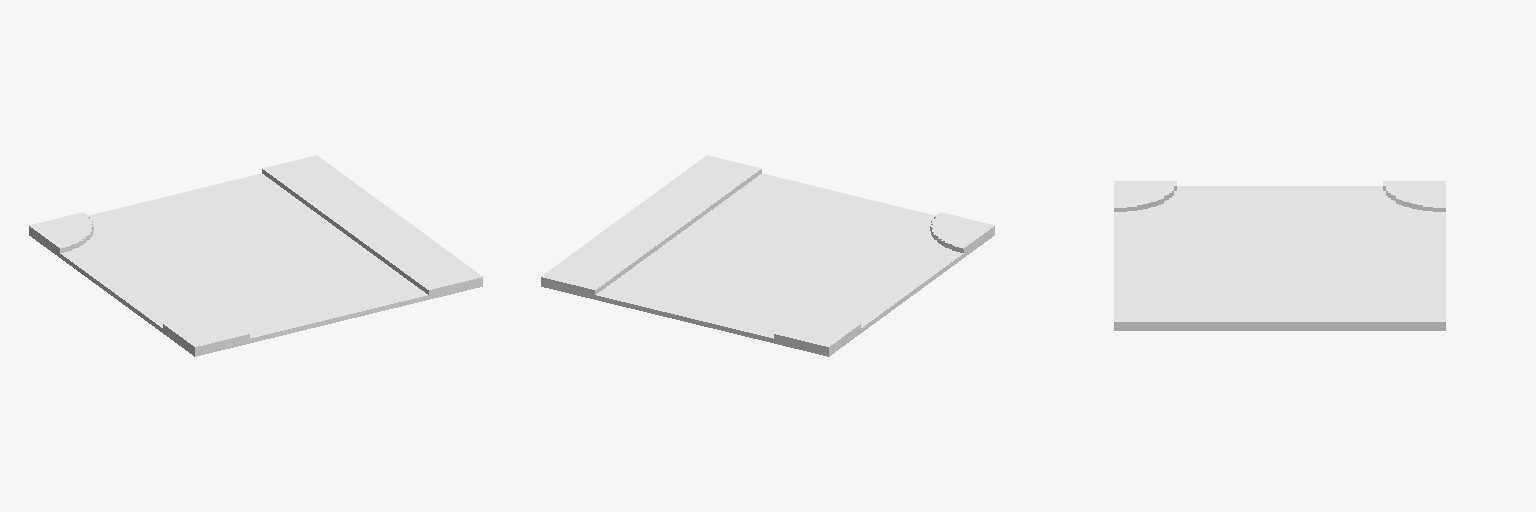
Rendered from roads-6.obj.
The picture shows the model from 3 angles: view 1: azimuth 30°, elevation 25°; view 2: azimuth 150°, elevation 25°; view 3: azimuth 270°, elevation 25°; orthographic projection.
Parts seen in each view (by area): view 1: object 1; view 2: object 1; view 3: object 1.
Boxes of the visible parts, box(x1,y1,x2,y2) form: object 1: box(29, 155, 482, 356); object 1: box(541, 155, 994, 356); object 1: box(1114, 181, 1445, 330).
Bounding box in the file's own units: 12.6 × 0.4 × 12.6.